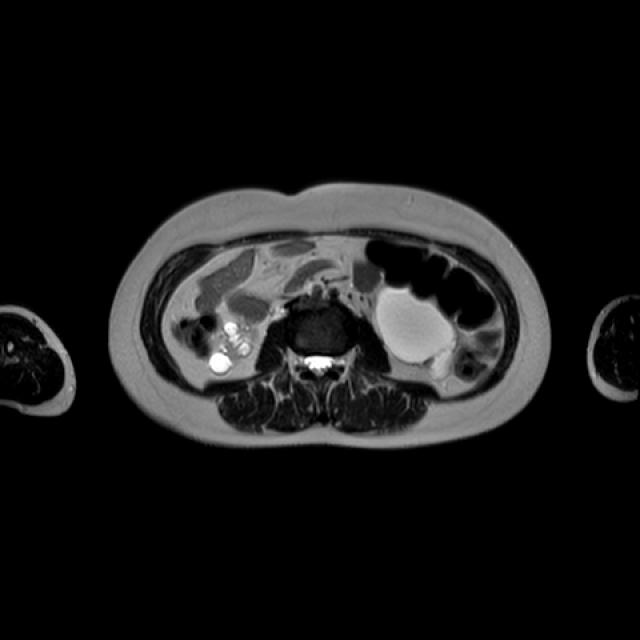sag: (208, 318, 258, 378)
sol: (377, 286, 457, 381)
